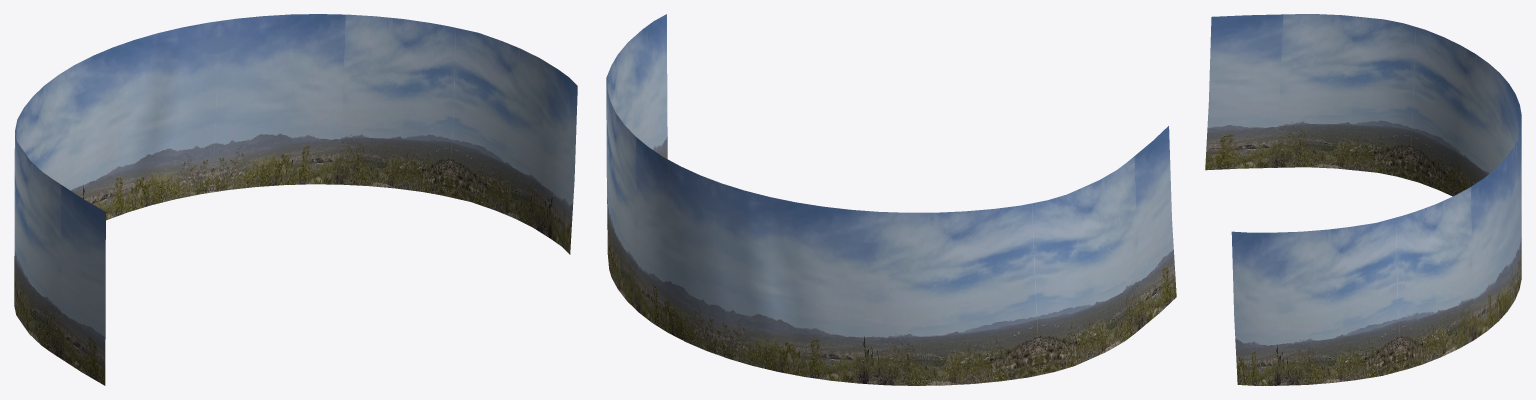
Rendered from Background.glb.
3 views of the same model, side by side, from view 1: azimuth 30°, elevation 25°; view 2: azimuth 150°, elevation 25°; view 3: azimuth 270°, elevation 25° (orthographic). The views are drawn at different scales.
Parts seen in each view (by area): view 1: Plane.002; view 2: Plane.002; view 3: Plane.002.
Boxes of the visible parts, bbox=[...] form: Plane.002: bbox=[14, 14, 577, 385]; Plane.002: bbox=[606, 14, 1176, 385]; Plane.002: bbox=[1205, 14, 1521, 385].
Size of the model in its own units: 64.42 by 21.14 by 39.08.
1 material, 1 textured.
